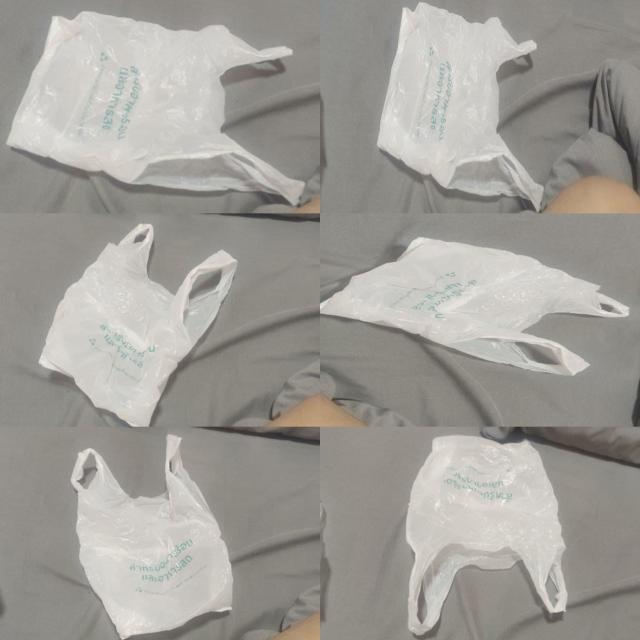Single-layer Plastic: (8, 11, 304, 202), (320, 238, 629, 375), (39, 224, 236, 426), (378, 2, 542, 208), (71, 435, 233, 639), (407, 435, 567, 635)
